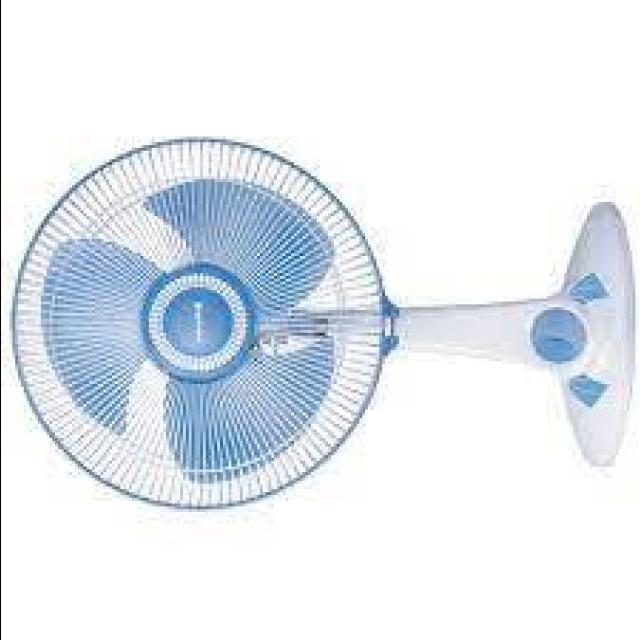fan: (6, 128, 640, 520)
